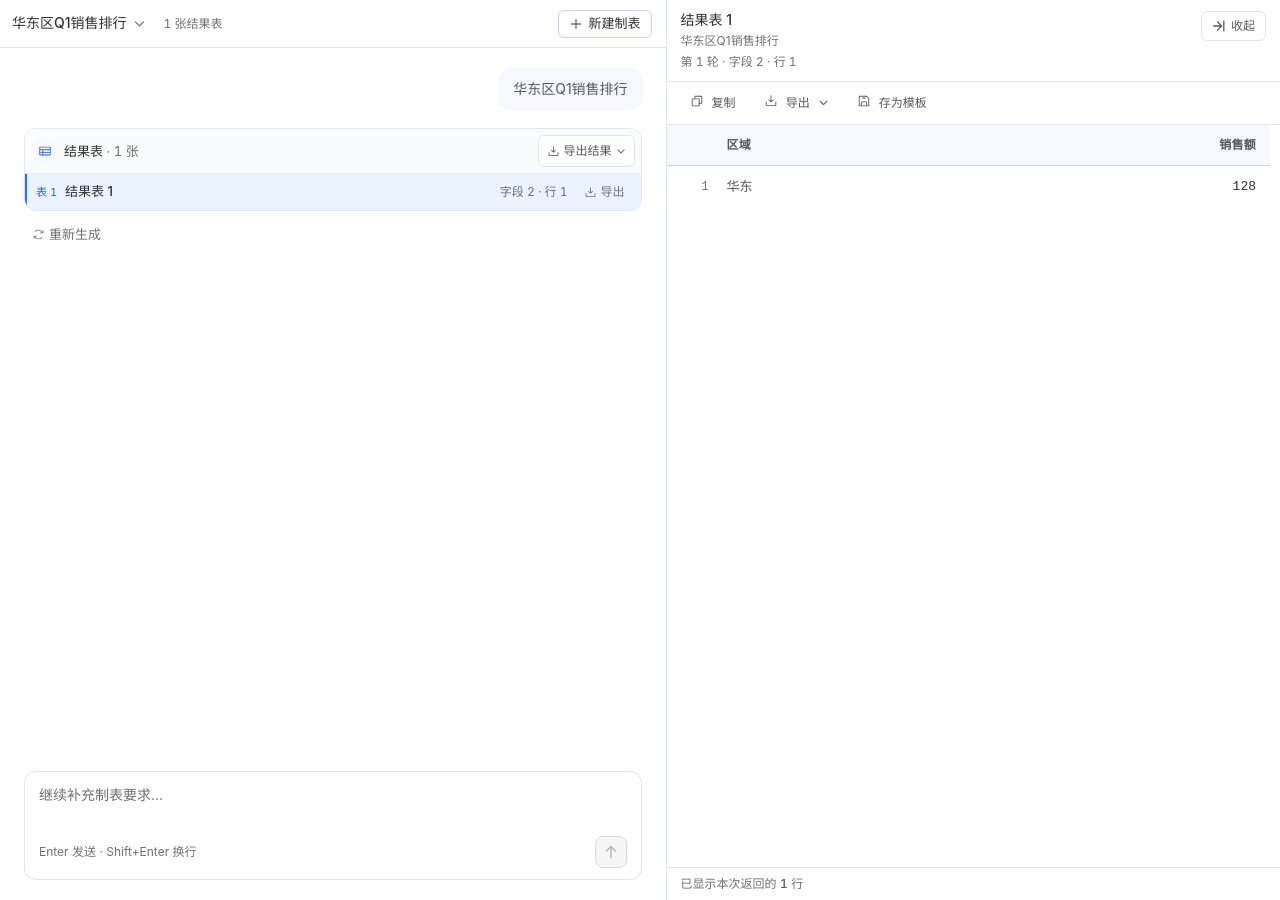
Scenario: TableSessionView › closes the panel and reopens it from the result card
Check: the element named "结果表预览" is shown, box [666,0,1279,899]
收起入口在结果台头部右上角，不再是工具条里那颗叉
Step 1. Click the button with aria-label "收起结果表预览" → (1234, 26), box [1201,11,1266,41]
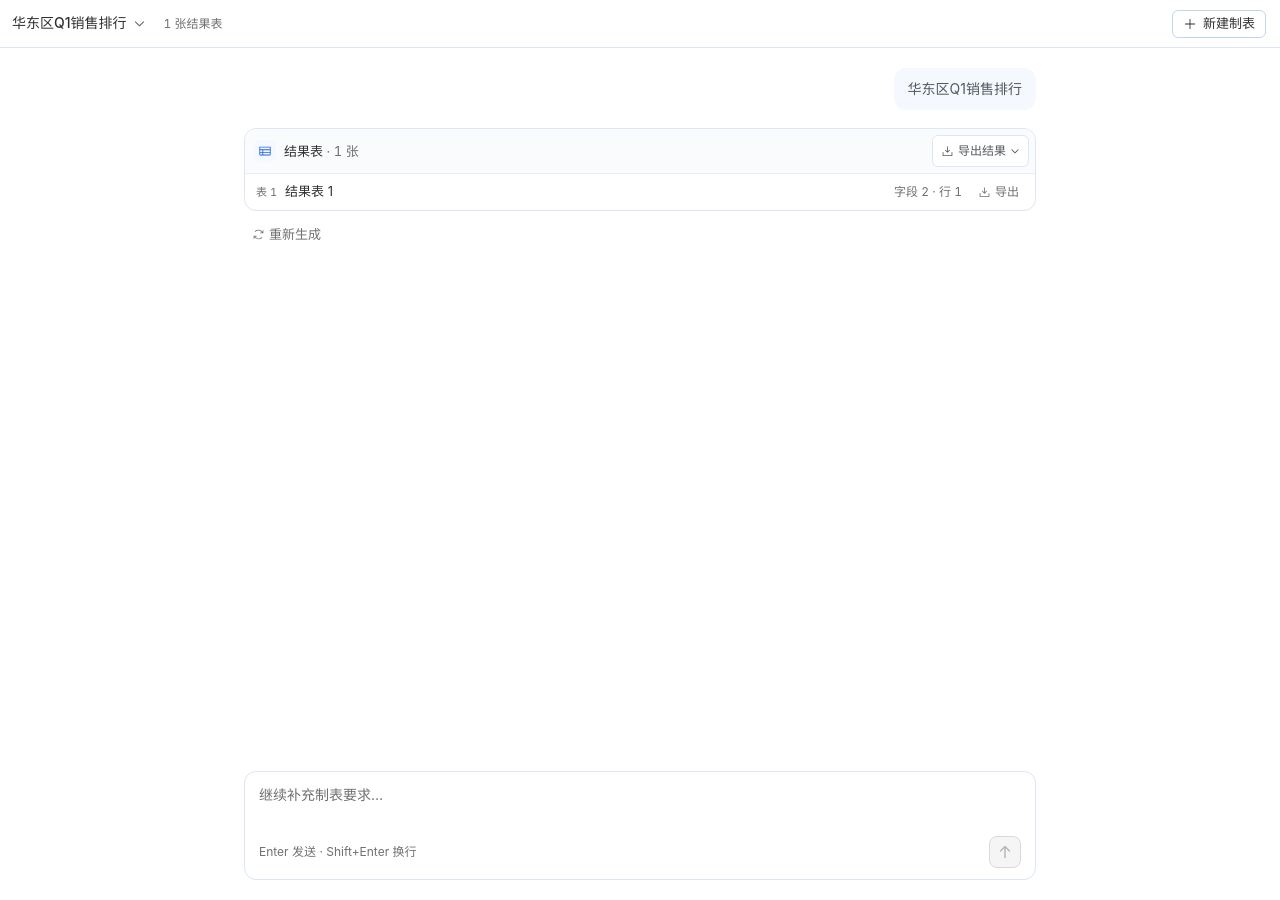
Check: the element "结果表预览" is gone
Step 2. Click the button with aria-label "浏览结果表" → (309, 191), box [254,175,964,209]
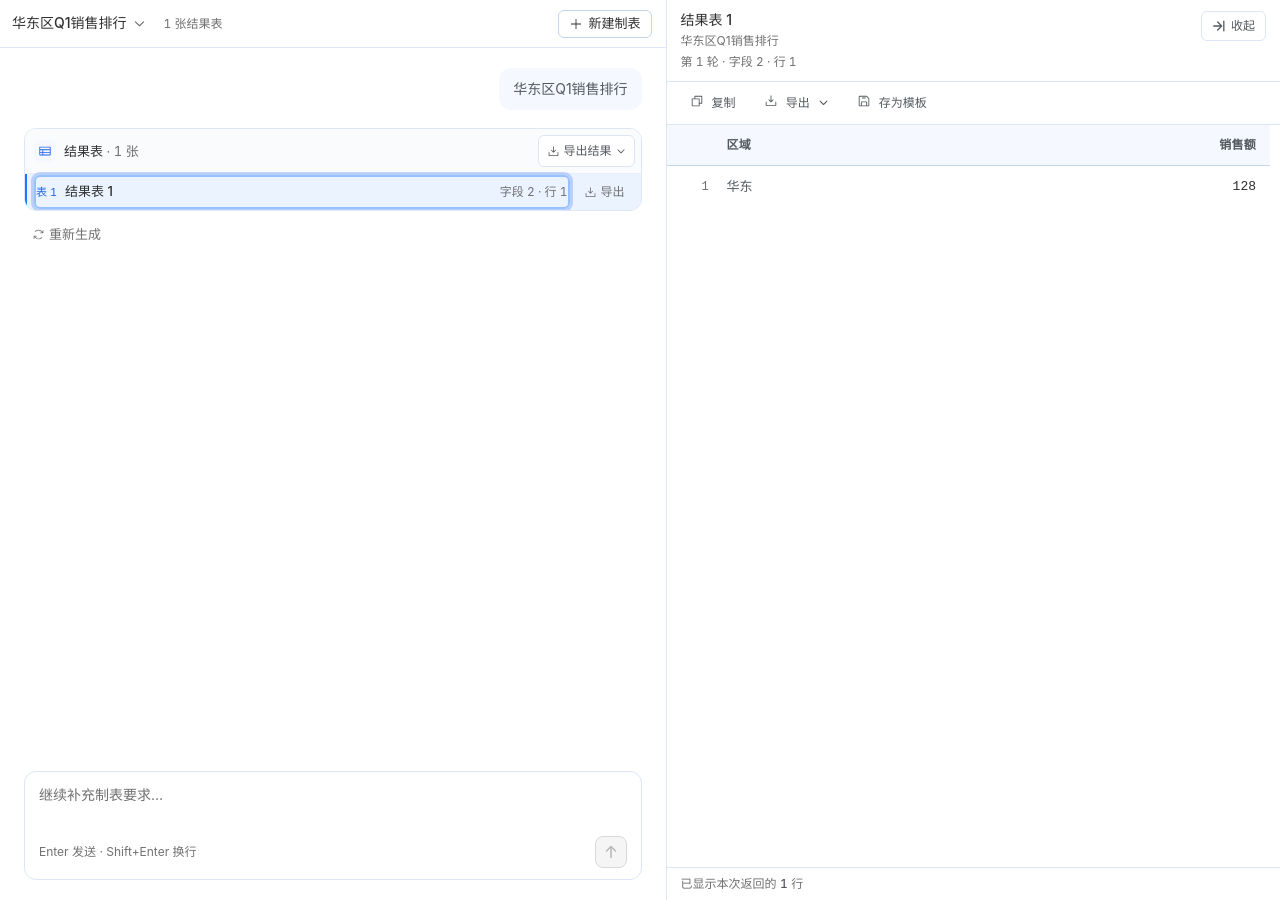
Check: the element named "结果表预览" is shown, box [666,0,1279,899]
